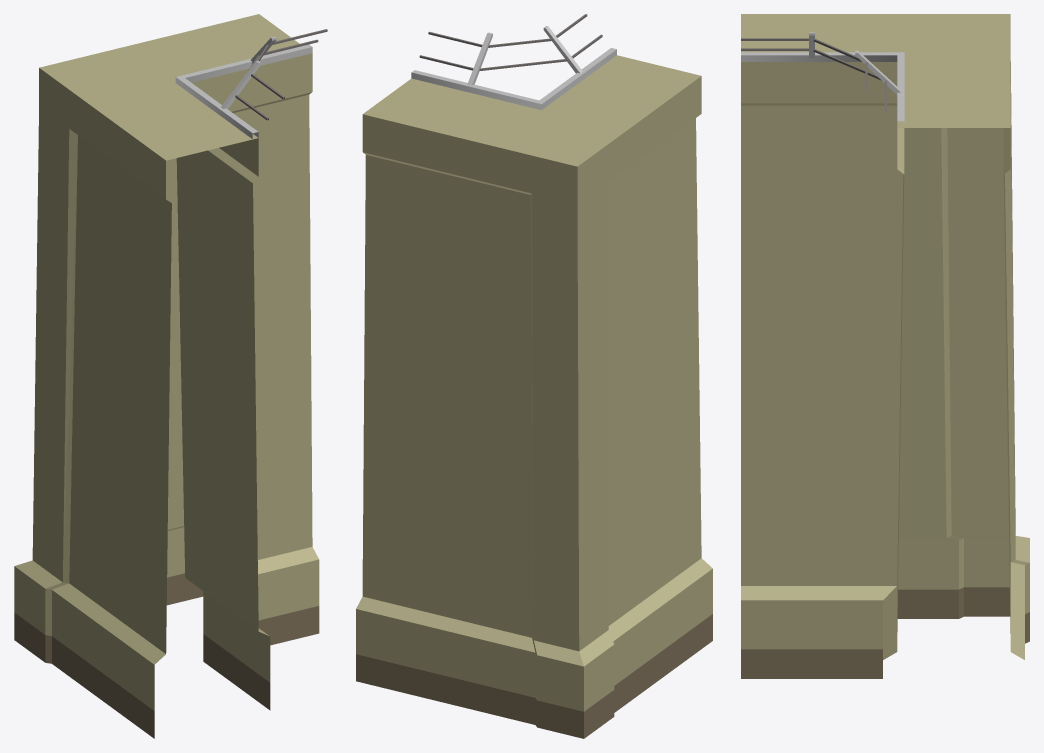
The model's file is SM_Wall_Big_Corner_200.FBX.
3 renders of one model, left to right at view 1: azimuth 30°, elevation 25°; view 2: azimuth 150°, elevation 25°; view 3: azimuth 270°, elevation 25°, orthographic. The views are drawn at different scales.
Parts seen in each view (by area): view 1: SM_Wall_Big_Corner_200; view 2: SM_Wall_Big_Corner_200; view 3: SM_Wall_Big_Corner_200.
Part boxes in pixels (x1,y1,x2,y2): SM_Wall_Big_Corner_200: [14, 14, 327, 738]; SM_Wall_Big_Corner_200: [356, 14, 712, 738]; SM_Wall_Big_Corner_200: [741, 14, 1029, 678].
Size of the model in its own units: 407 by 407 by 1022.
